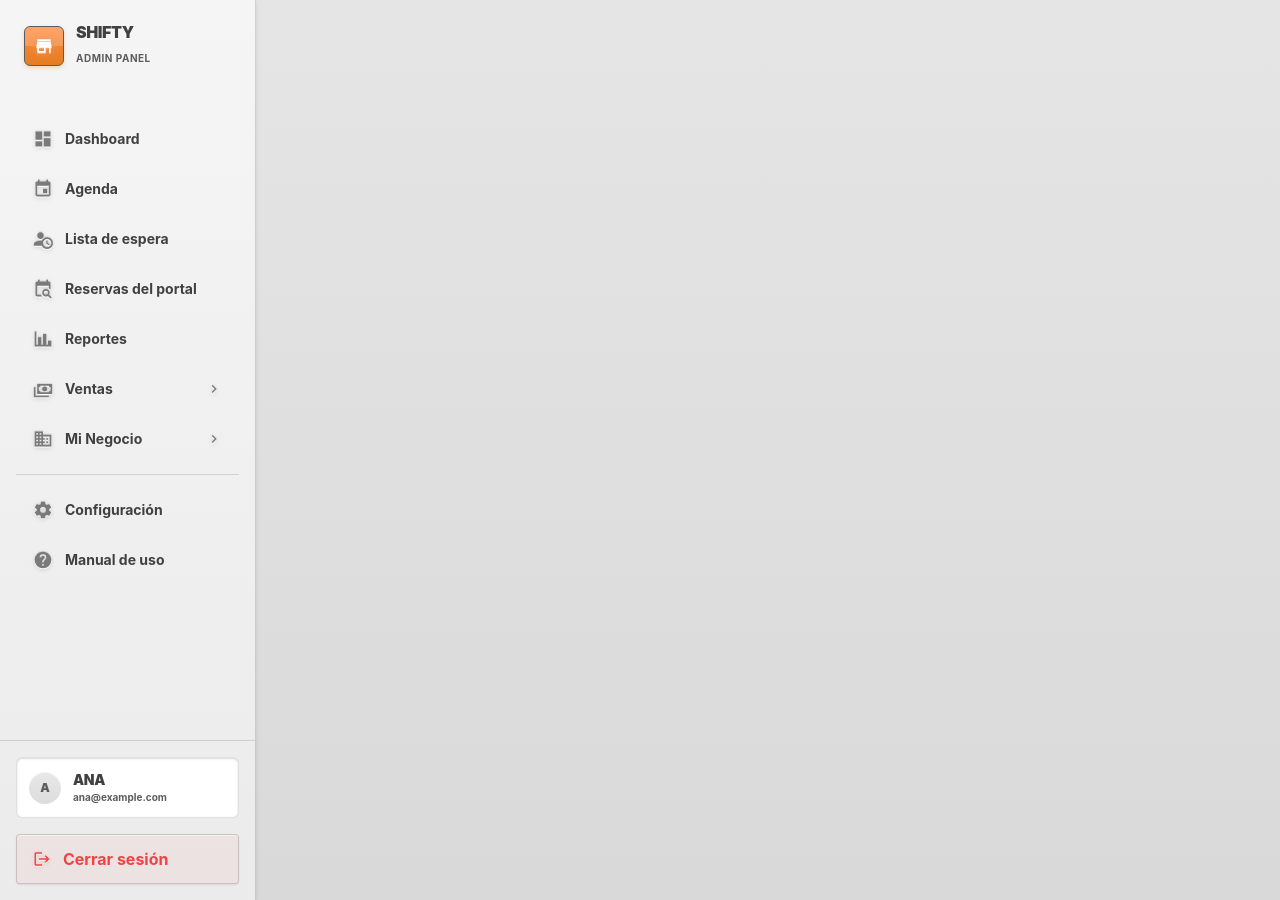
Scenario: visibilidad de navegación del panel › la marca global da la navegación de administración aunque el rol de cuenta sea cliente
This screenshot has width=1280, height=900.
Click the button "Ventas": (128, 389) [16,366,239,412]
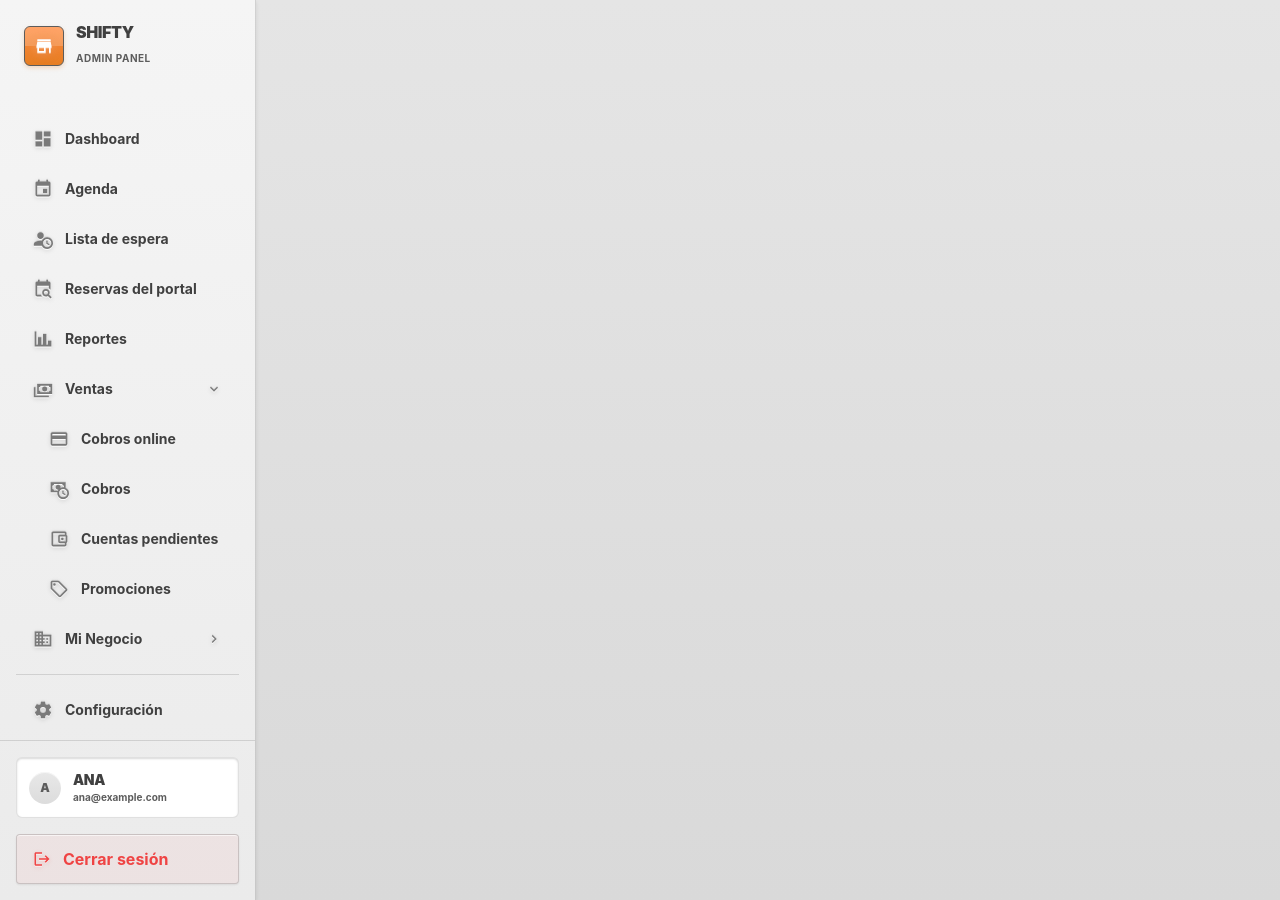
Click the button "Mi Negocio": (128, 639) [16,616,239,662]
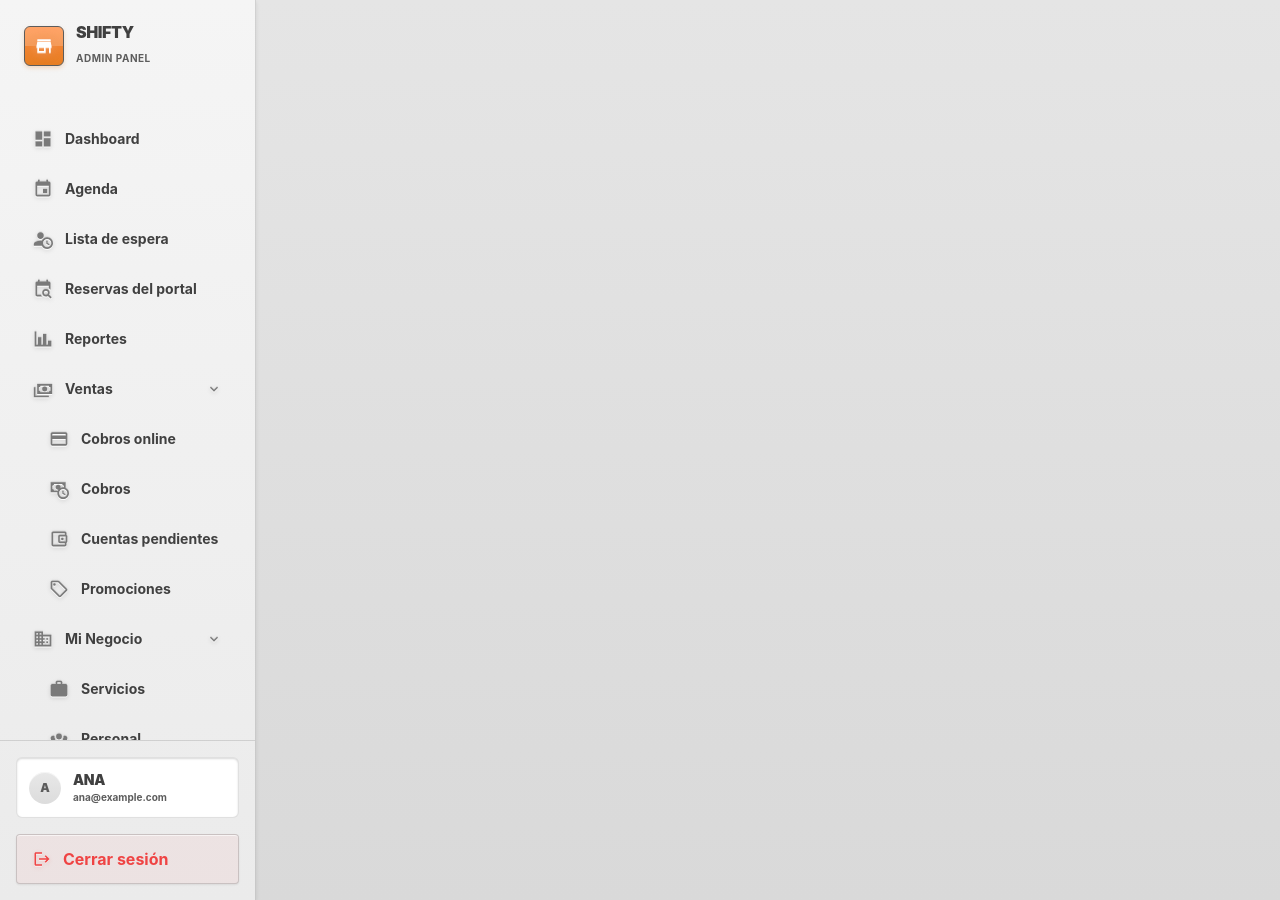
Expected: the link "Cobros online" is shown, [49,429,176,449]
Expected: the link "Servicios" is shown, [49,679,145,699]
